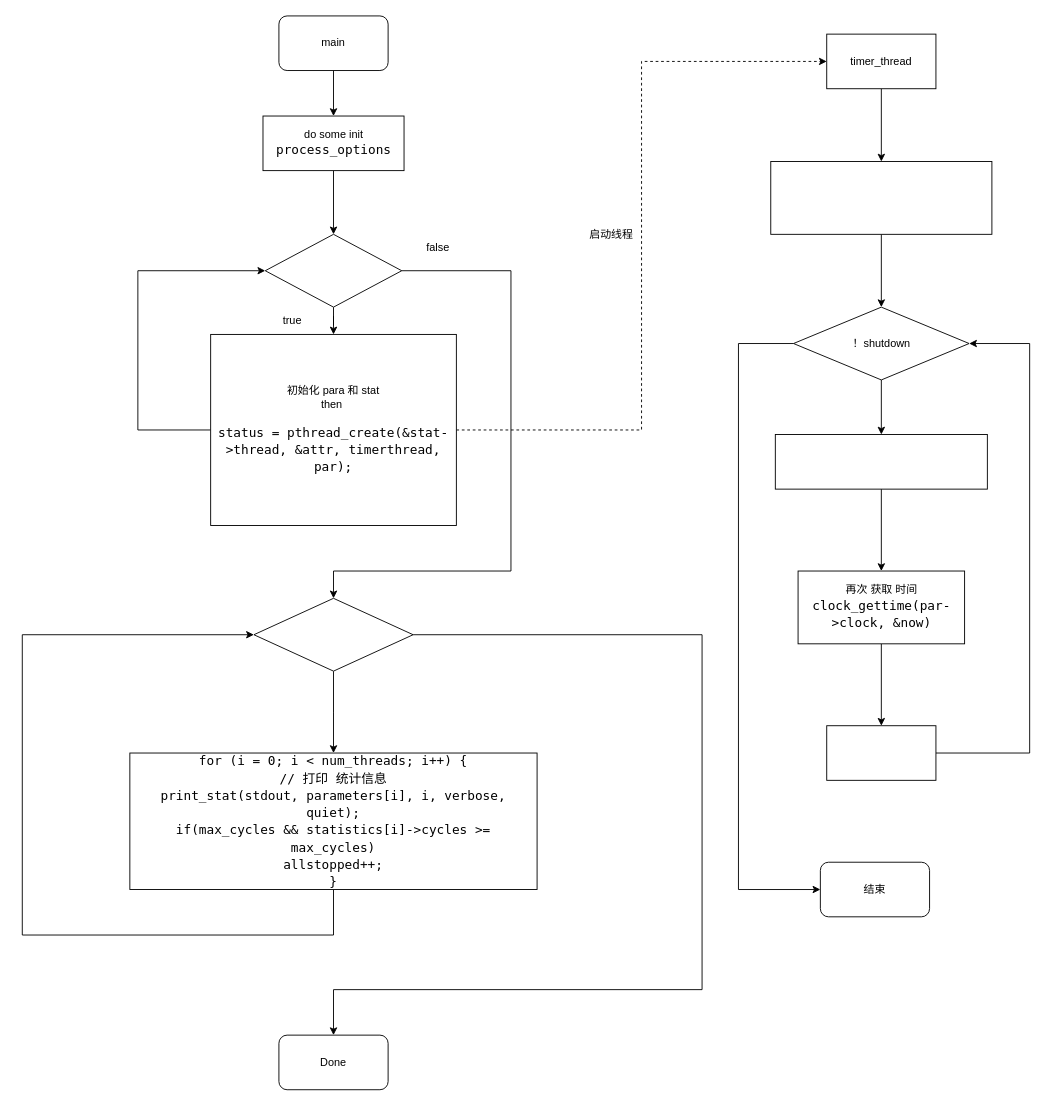
This 1053x1106 diagram has some shape labels left out. The shapes that lost their labels are listed below. From the top down, each one's centre as x and y in pixels, then its label:
(x=881, y=197): 获取当前时间 clock_gettime(par->clock, &now);
(x=333, y=270): i < num_thread
(x=880, y=461): 睡眠 clock_nanosleep(par->clock, TIMER_ABSTIME, &next, NULL
(x=333, y=634): !shutdown
(x=881, y=752): 计算 diff 更新 统计信息
